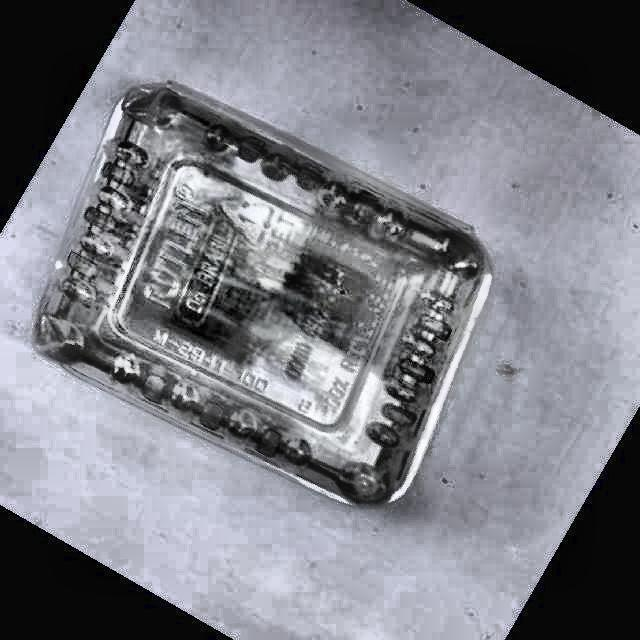plastic: (34, 82, 492, 503)
